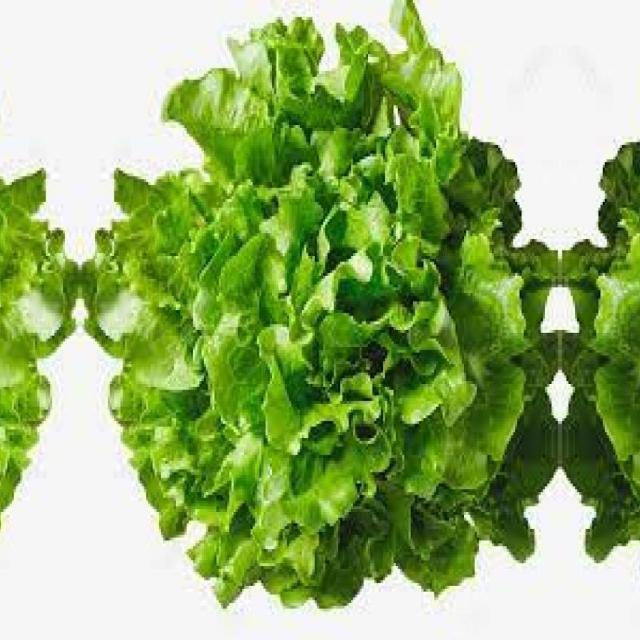healthy: (80, 4, 560, 608), (0, 3, 80, 608), (560, 3, 640, 608)
